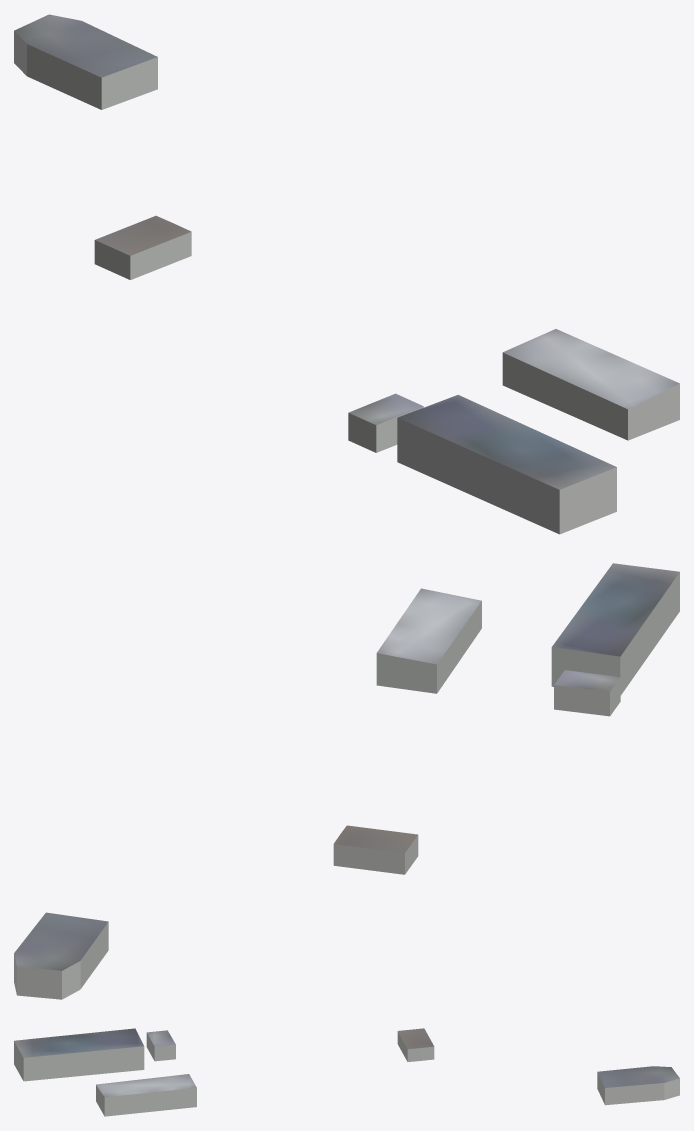
File: LFSB_3_-2.glb
The picture shows the model from 3 angles, top to bottom: view 1: azimuth 30°, elevation 25°; view 2: azimuth 150°, elevation 25°; view 3: azimuth 270°, elevation 25°; orthographic projection. The views are drawn at different scales.
Parts seen in each view (by area): view 1: building_BATIMENT0000002204047408, building_BATIMENT0000000358878173, building_BATIMENT0000000048083261, building_BATIMENT0000000338244660, building_BATIMENT0000002493913667; view 2: building_BATIMENT0000002204047408, building_BATIMENT0000000358878173, building_BATIMENT0000000048083261, building_BATIMENT0000000338244660, building_BATIMENT0000002493913667; view 3: building_BATIMENT0000002204047408, building_BATIMENT0000000358878173, building_BATIMENT0000000048083261, building_BATIMENT0000000338244660, building_BATIMENT0000002493913667.
Boxes of the visible parts, bbox=[...] form: building_BATIMENT0000002204047408: bbox=[397, 395, 616, 534]; building_BATIMENT0000000358878173: bbox=[502, 329, 679, 440]; building_BATIMENT0000000048083261: bbox=[14, 14, 157, 109]; building_BATIMENT0000000338244660: bbox=[94, 215, 191, 279]; building_BATIMENT0000002493913667: bbox=[348, 393, 423, 452]; building_BATIMENT0000002204047408: bbox=[551, 563, 679, 695]; building_BATIMENT0000000358878173: bbox=[376, 588, 481, 693]; building_BATIMENT0000000048083261: bbox=[14, 912, 108, 999]; building_BATIMENT0000000338244660: bbox=[333, 825, 418, 874]; building_BATIMENT0000002493913667: bbox=[554, 670, 620, 716]; building_BATIMENT0000002204047408: bbox=[14, 1028, 144, 1081]; building_BATIMENT0000000358878173: bbox=[96, 1074, 196, 1116]; building_BATIMENT0000000048083261: bbox=[597, 1066, 679, 1105]; building_BATIMENT0000000338244660: bbox=[397, 1028, 434, 1061]; building_BATIMENT0000002493913667: bbox=[146, 1030, 175, 1061].
Size of the model in its own units: 51.22 by 7.9 by 197.
Materials: 2 (1 with a texture image).
